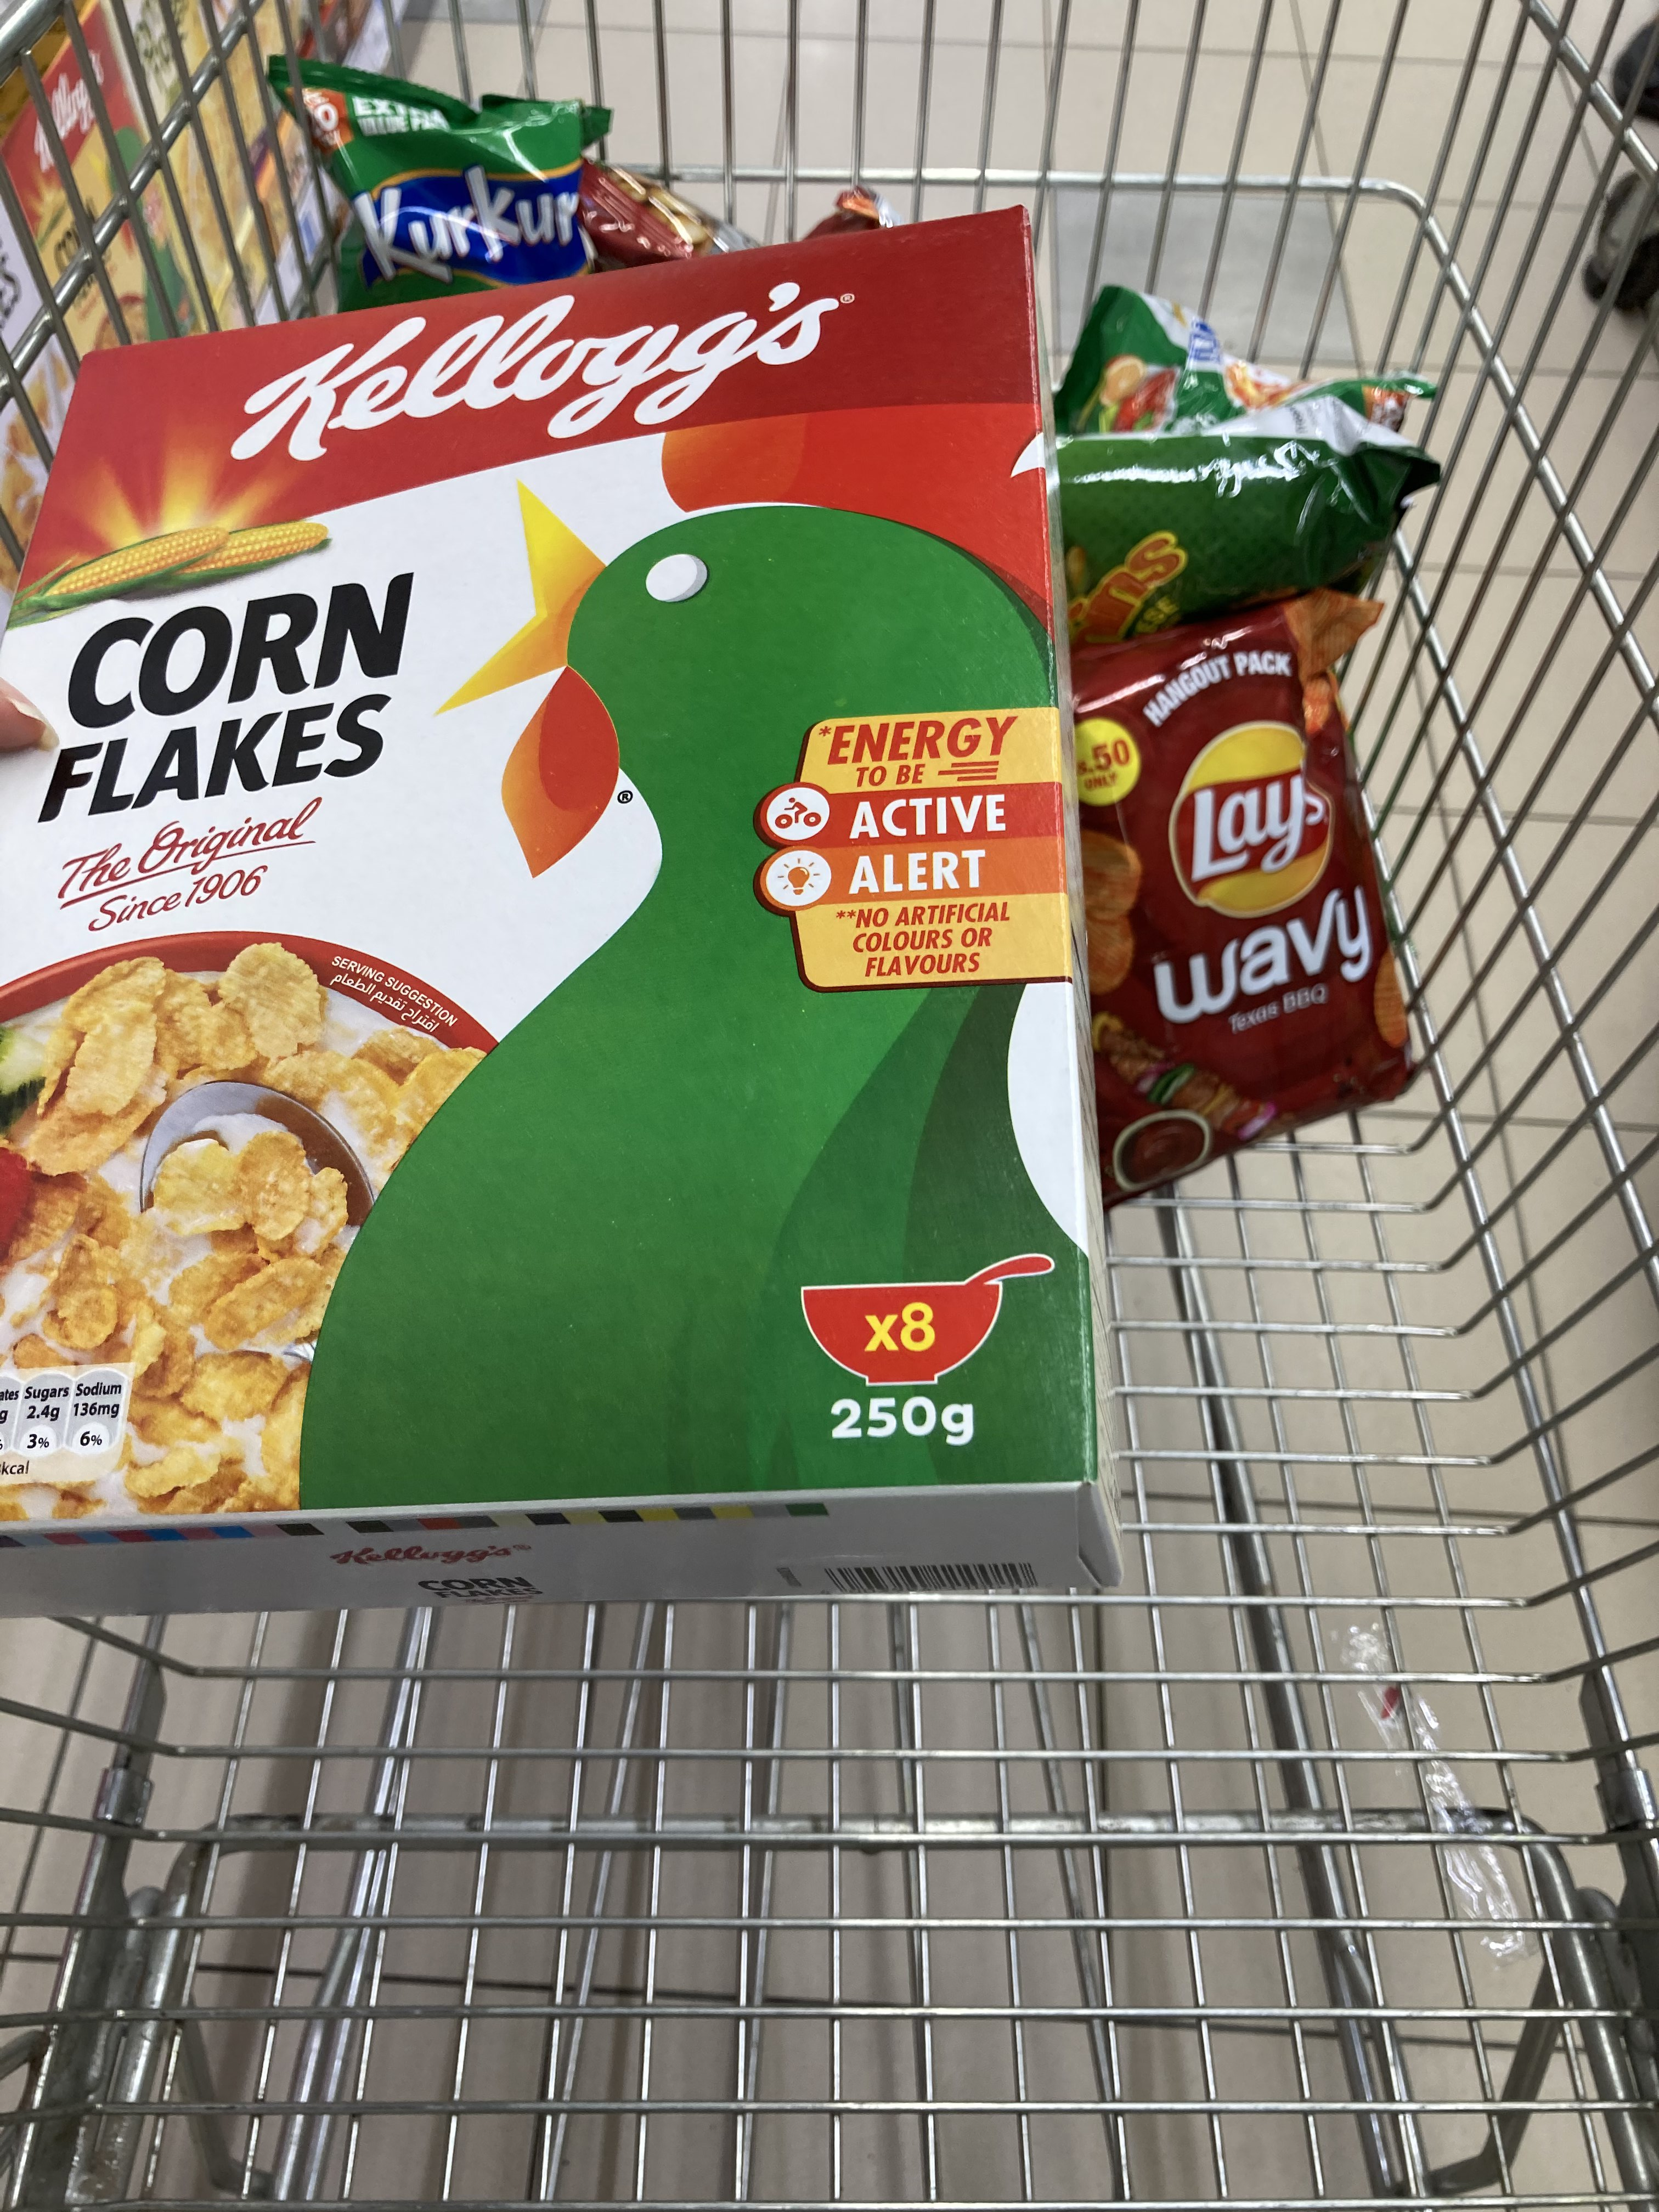Kellogg's Corn Flakes: (5, 207, 1122, 1616)
